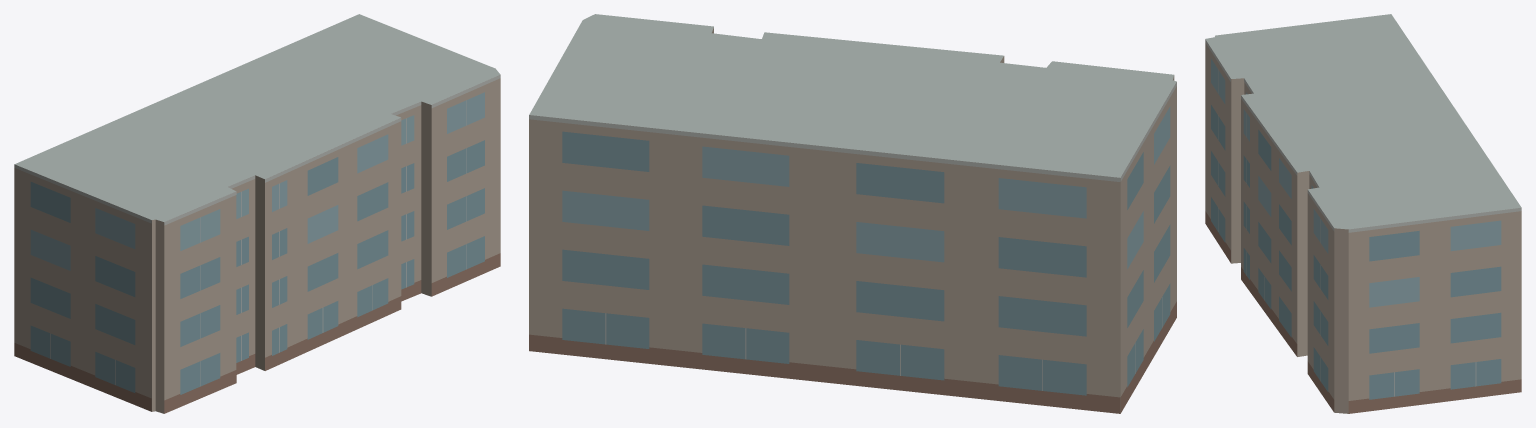
Rendered from survey-upis-32697617.glb.
3 views of the same model, side by side, from view 1: azimuth 30°, elevation 25°; view 2: azimuth 150°, elevation 25°; view 3: azimuth 270°, elevation 25° (orthographic). The views are drawn at different scales.
Visible parts, largest first — view 1: survey-upis-32697617.tmp; view 2: survey-upis-32697617.tmp; view 3: survey-upis-32697617.tmp.
Part boxes in pixels (bbox=[...]): survey-upis-32697617.tmp: bbox=[14, 14, 500, 413]; survey-upis-32697617.tmp: bbox=[529, 14, 1176, 413]; survey-upis-32697617.tmp: bbox=[1205, 14, 1521, 413].
Size of the model in its own units: 33.32 by 13.3 by 20.69.
